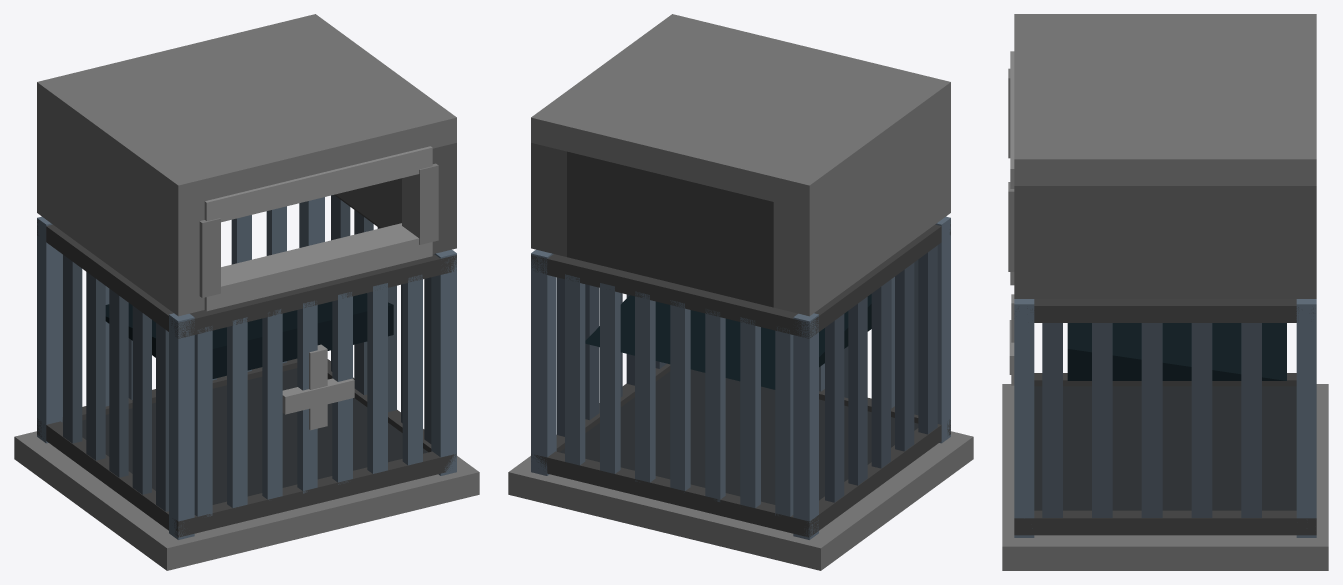
The model's file is CMU3DTrashBinBlueCloud.glb.
3 views of the same model, side by side, from view 1: azimuth 30°, elevation 25°; view 2: azimuth 150°, elevation 25°; view 3: azimuth 270°, elevation 25° (orthographic). The views are drawn at different scales.
Parts seen in each view (by area): view 1: hood top panel, side separate blue rib (×9), basket perimeter ring (×6), hood left wall, blue bin corner post (×4), lower plinth, inner litter floor, mouth lower rim, mouth upper rim, mouth internal downward chute, hood right wall, mouth vertical silver jamb (×2) (+11 smaller); view 2: hood top panel, hood rear wall, side separate blue rib (×7), hood left wall, basket perimeter ring (×5), lower plinth, blue bin corner post (×3), inner litter floor, mouth internal downward chute, rear separate blue vertical rib 4, rear separate blue vertical rib 2, rear separate blue vertical rib 5 (+6 smaller); view 3: hood top panel, hood right wall, side separate blue rib (×5), inner litter floor, lower plinth, basket perimeter ring (×3), blue bin corner post (×2), mouth internal downward chute, mouth upper rim, mouth vertical silver jamb.
Boxes of the visible parts, box(x1,y1,x2,y2) form: hood top panel: box(37, 14, 456, 210); side separate blue rib (×9): box(63, 195, 431, 511); basket perimeter ring (×6): box(37, 224, 456, 537); hood left wall: box(37, 107, 204, 316); blue bin corner post (×4): box(37, 197, 456, 539); lower plinth: box(14, 431, 479, 570); inner litter floor: box(82, 368, 428, 504); mouth lower rim: box(204, 223, 432, 311); mouth upper rim: box(204, 146, 432, 222); mouth internal downward chute: box(105, 293, 393, 378); hood right wall: box(335, 143, 456, 253); mouth vertical silver jamb (×2): box(199, 163, 438, 297); hood top panel: box(531, 14, 950, 210); hood rear wall: box(567, 151, 773, 307); side separate blue rib (×7): box(557, 245, 937, 502); hood left wall: box(773, 107, 950, 316); basket perimeter ring (×5): box(531, 224, 941, 537); lower plinth: box(508, 431, 973, 570); blue bin corner post (×3): box(531, 216, 950, 539); inner litter floor: box(559, 369, 918, 504); mouth internal downward chute: box(585, 294, 871, 389); rear separate blue vertical rib 4: box(635, 291, 655, 482); rear separate blue vertical rib 2: box(705, 309, 725, 501); rear separate blue vertical rib 5: box(600, 283, 620, 473); hood top panel: box(1014, 14, 1316, 185); hood right wall: box(1014, 186, 1316, 298); side separate blue rib (×5): box(1042, 323, 1261, 517); inner litter floor: box(1034, 386, 1296, 510); lower plinth: box(1002, 384, 1328, 570); basket perimeter ring (×3): box(1032, 299, 1298, 535); blue bin corner post (×2): box(1014, 299, 1316, 537); mouth internal downward chute: box(1067, 323, 1286, 380); mouth upper rim: box(1010, 51, 1014, 188); mouth vertical silver jamb: box(1008, 182, 1014, 271).
Size of the model in its own units: 0.65 by 0.75 by 0.55.
